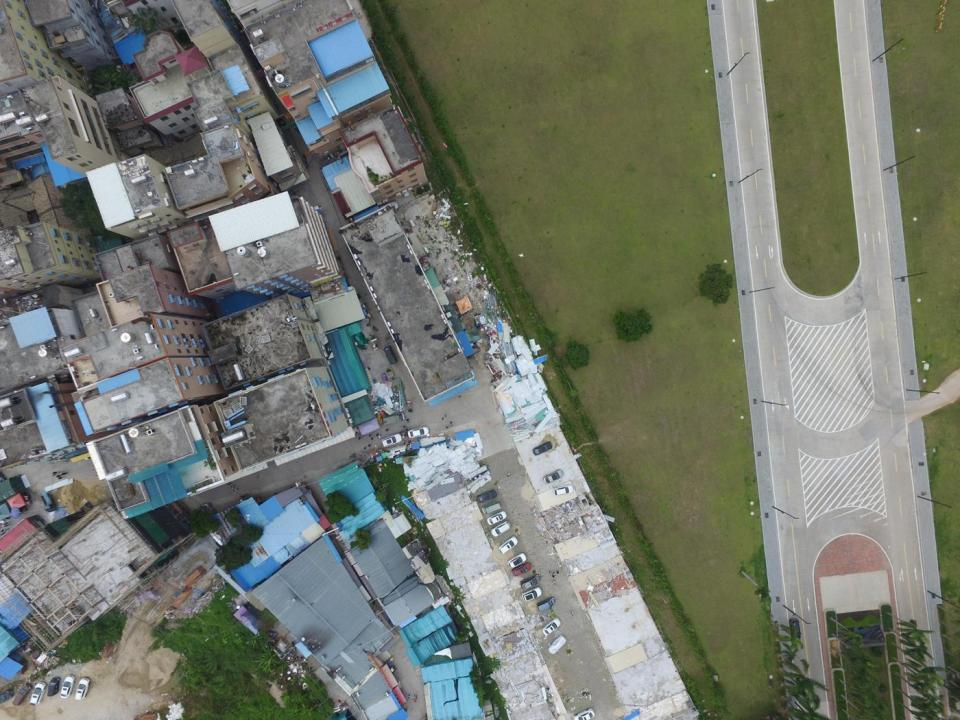car: (547, 633, 566, 655), (30, 680, 46, 706), (60, 674, 76, 699), (498, 535, 518, 554), (75, 676, 90, 700), (491, 519, 511, 537), (531, 440, 553, 456), (542, 617, 561, 635), (476, 488, 498, 503), (506, 552, 526, 568), (487, 509, 507, 525), (521, 586, 542, 601), (542, 468, 563, 483), (510, 562, 532, 576), (571, 707, 594, 720), (381, 433, 401, 447), (407, 426, 430, 438), (47, 677, 60, 696), (384, 345, 396, 365), (0, 688, 14, 705), (553, 485, 574, 496)
truck: (383, 412, 406, 425), (482, 500, 501, 515)
van: (12, 683, 32, 706), (537, 596, 556, 612), (520, 574, 541, 588)
